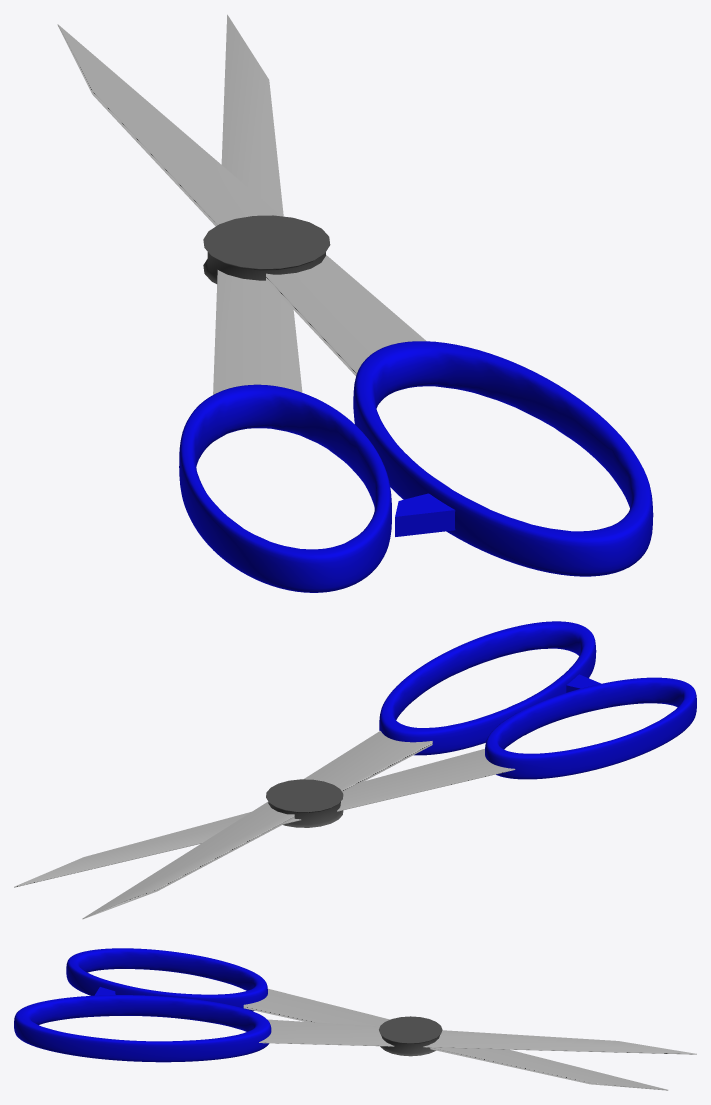
The model's file is Scissors.fbx.
The picture shows the model from 3 angles, top to bottom: view 1: azimuth 30°, elevation 25°; view 2: azimuth 150°, elevation 25°; view 3: azimuth 270°, elevation 25°; orthographic projection. The views are drawn at different scales.
Parts seen in each view (by area): view 1: scrissorArmBig, scrissorArmSmall, scissorPivot, scissorSpacer; view 2: scrissorArmSmall, scrissorArmBig, scissorPivot; view 3: scrissorArmBig, scrissorArmSmall, scissorPivot.
Part boxes in pixels (x1,y1,x2,y2): scrissorArmBig: [57, 24, 653, 576]; scrissorArmSmall: [179, 14, 391, 592]; scissorPivot: [203, 215, 330, 283]; scissorSpacer: [395, 493, 455, 536]; scrissorArmSmall: [14, 677, 696, 887]; scrissorArmBig: [82, 621, 596, 919]; scissorPivot: [266, 779, 343, 827]; scrissorArmBig: [14, 995, 696, 1062]; scrissorArmSmall: [66, 948, 668, 1090]; scissorPivot: [379, 1016, 442, 1056].
Size of the model in its own units: 6.29 by 0.4399 by 13.63.
